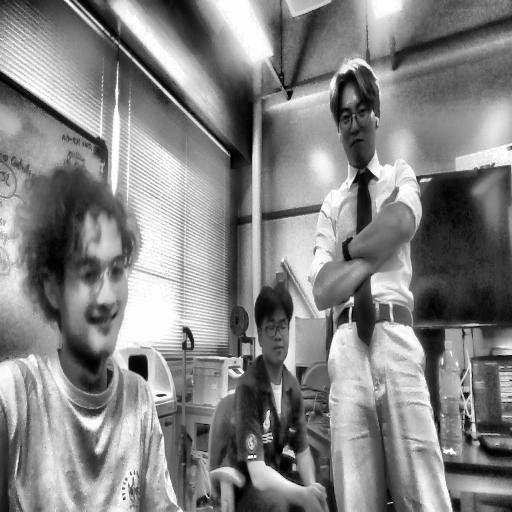Daifuku: (20, 164, 140, 374)
Not Daifuku: (329, 57, 386, 162), (253, 283, 294, 363)
